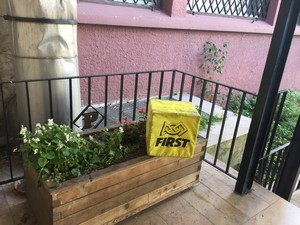cube: (146, 102, 198, 160)
